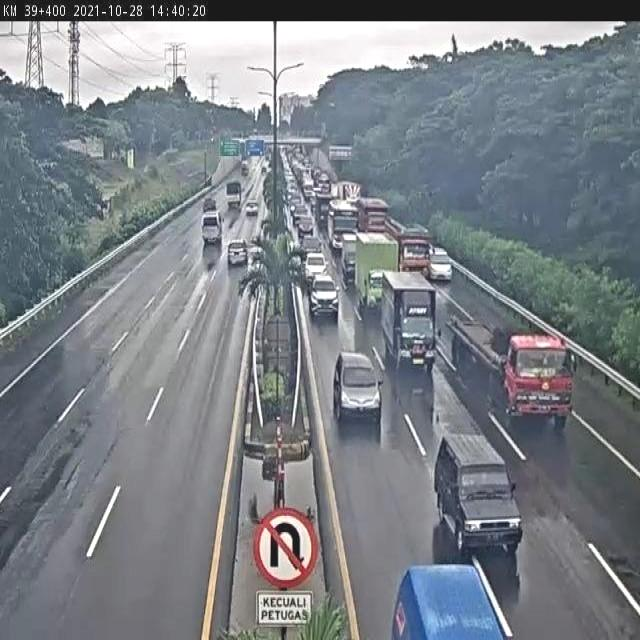Bus: (327, 201, 358, 251)
Car: (435, 435, 520, 562), (332, 352, 384, 422), (307, 274, 341, 322), (426, 247, 456, 281), (302, 253, 331, 279), (226, 237, 249, 266), (244, 199, 260, 216)
Truck: (446, 313, 570, 428), (381, 268, 443, 374), (383, 213, 436, 282), (354, 233, 396, 306), (355, 196, 389, 231), (226, 181, 241, 207)
Van: (201, 208, 225, 245)
